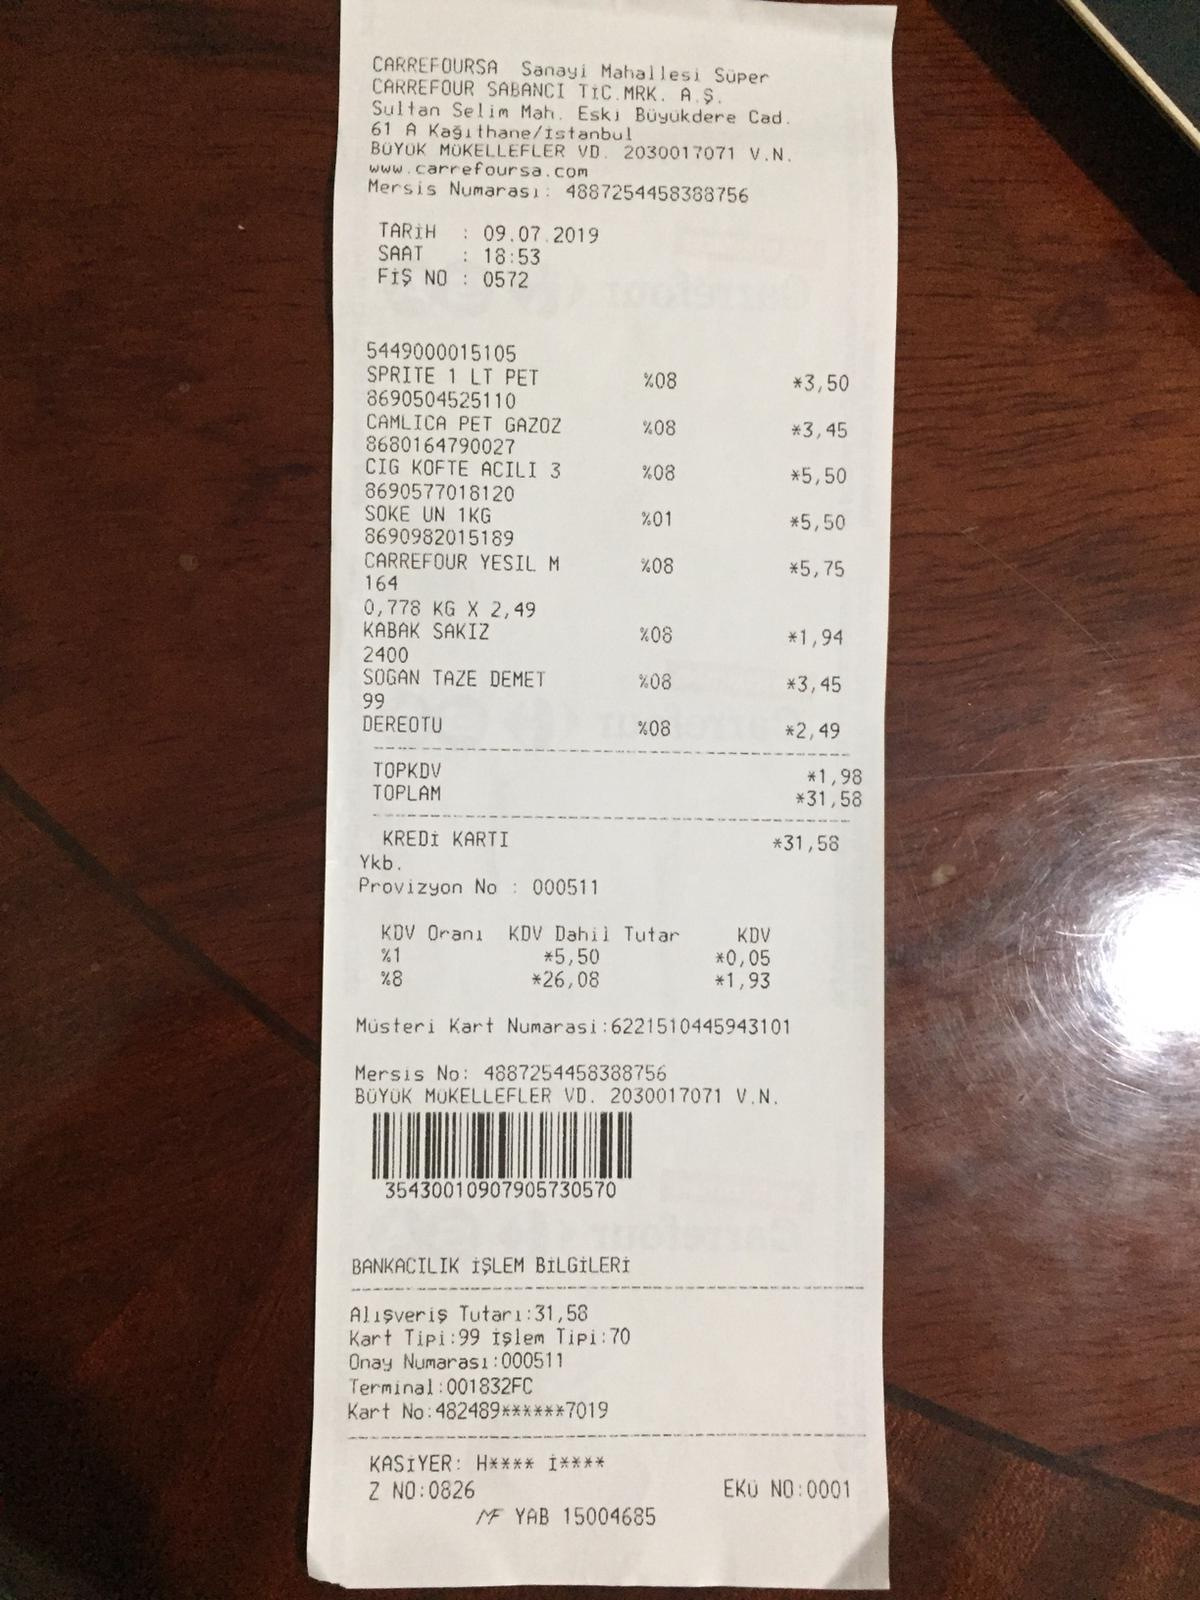total: (370, 777, 867, 813)
